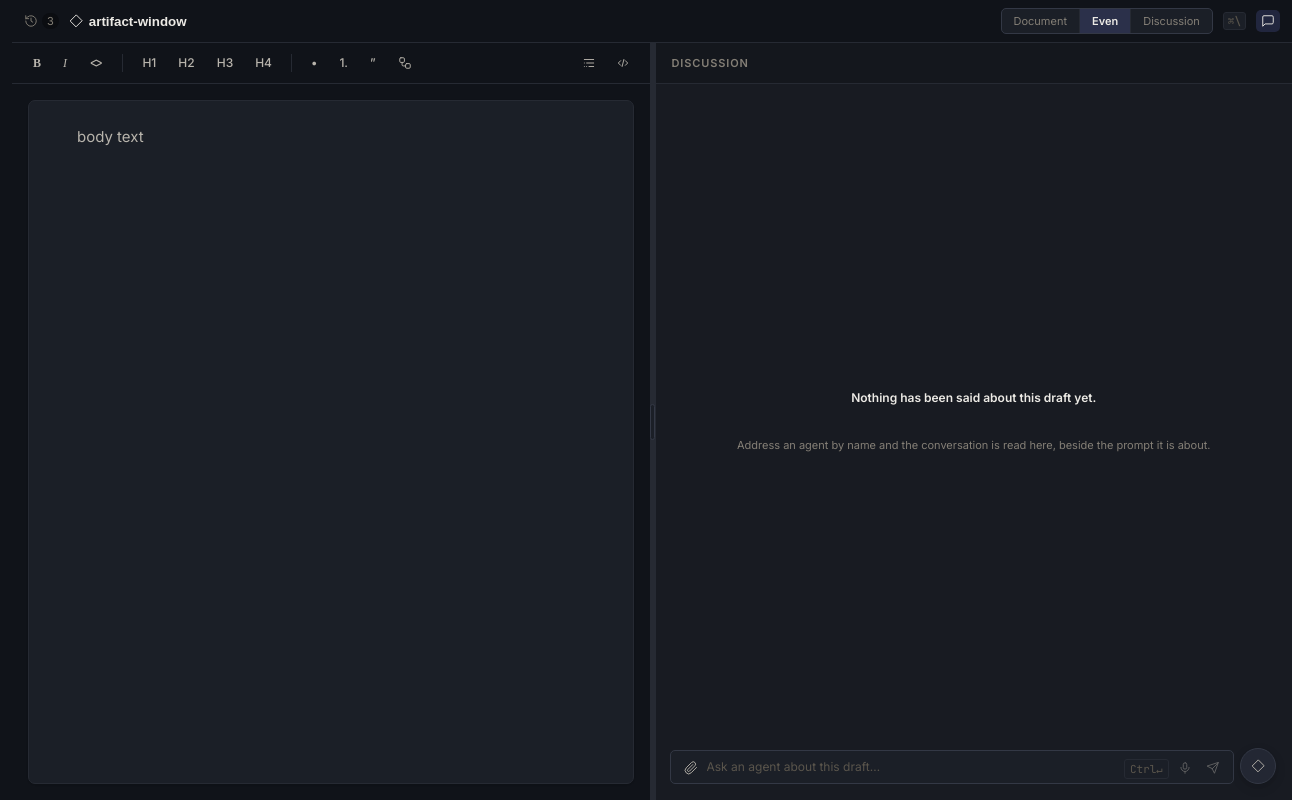
it: the History rail (NAW-FR-07 … NAW-FR-43) › NAW-FR-09, NAW-FR-10, NAW-FR-39: selecting a version reads it read-only beside the live-prompt row
Click the button named "Show History" at coordinates (41, 21), box [24,13,59,29]
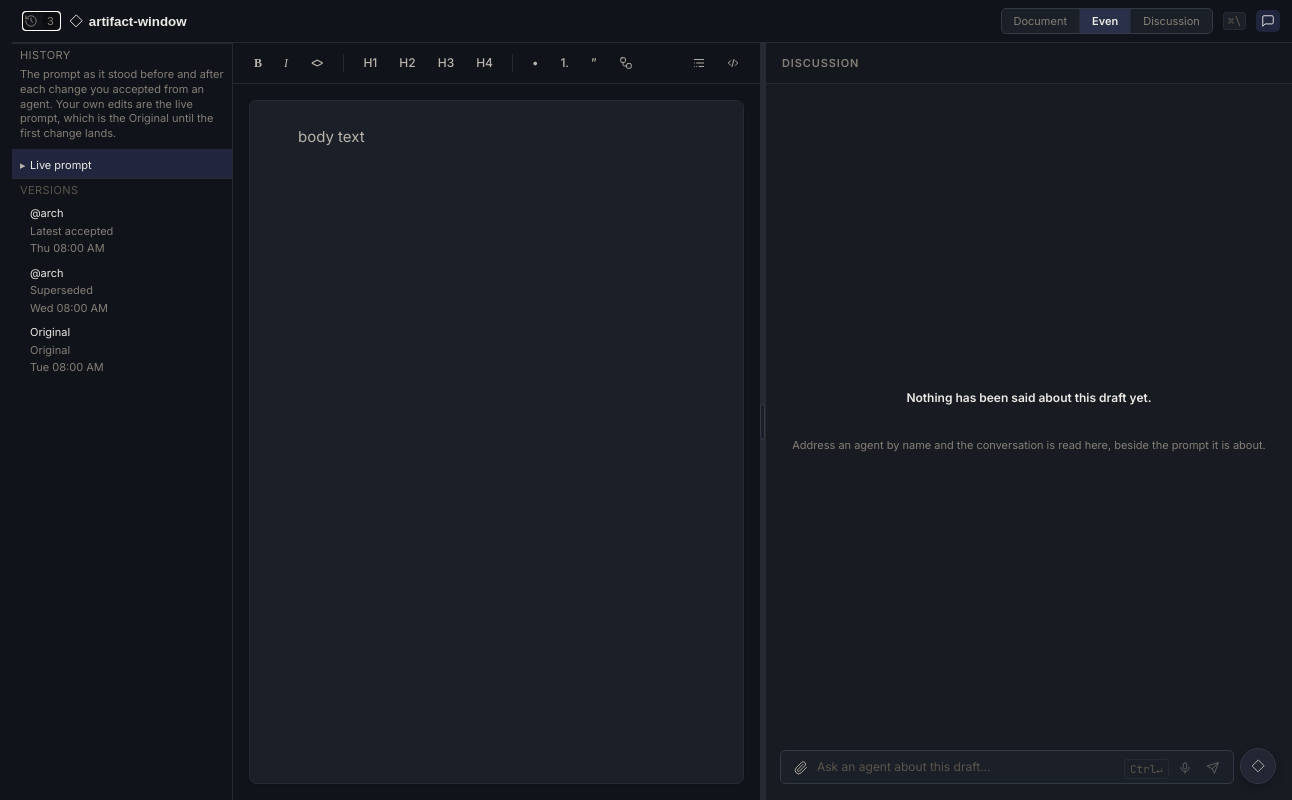
Click the button with class "draft-version" showing "Original Original Tue 08:00 AM" at coordinates (122, 350), box [12,320,232,380]
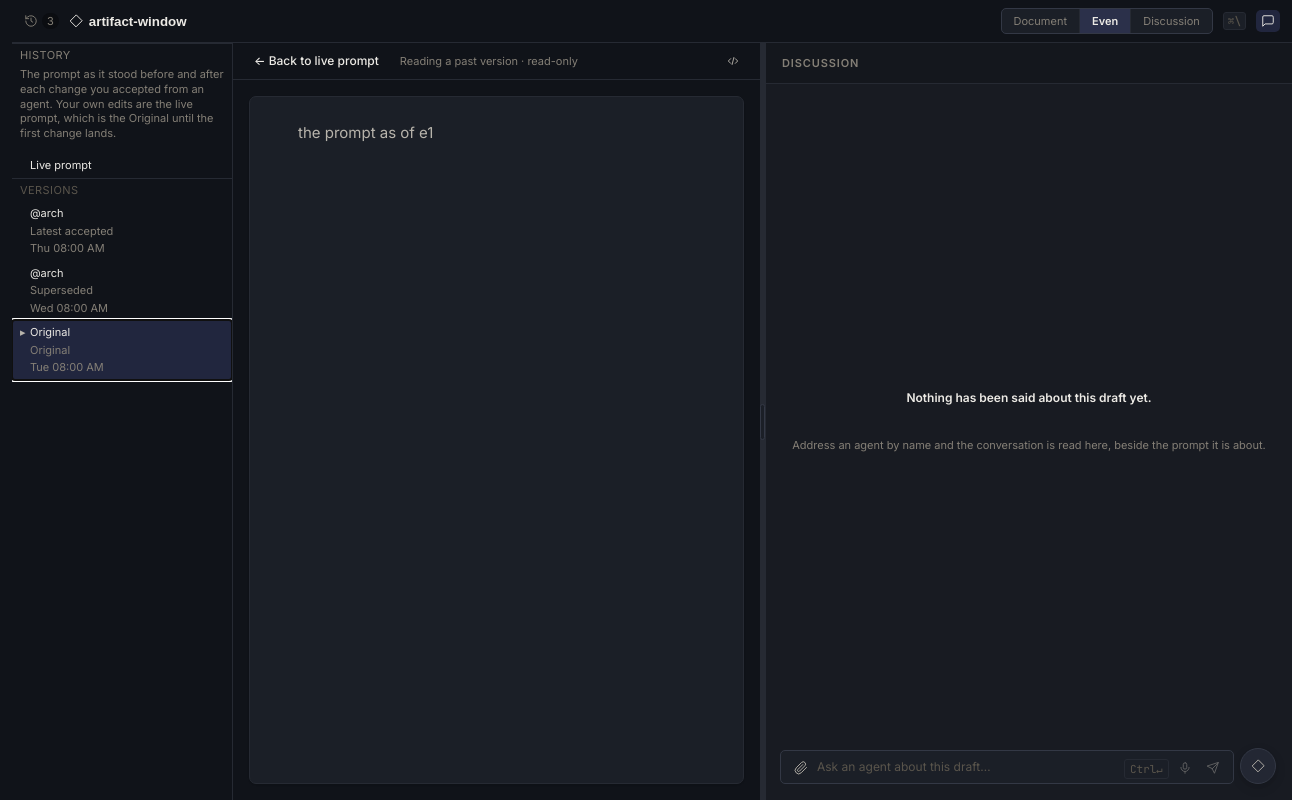
Expected: the button with class "draft-version--live" is shown, [12,149,232,178]
Expected: the element with test id "draft-version-reading" reads "the prompt as of e1", [298,123,433,142]
Expected: the text "Reading a past version · read-only" is shown, [400,54,578,68]
